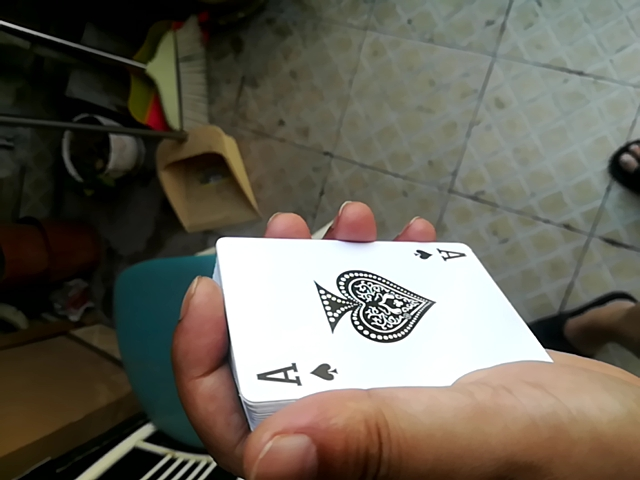ht a: (214, 216, 569, 398)
